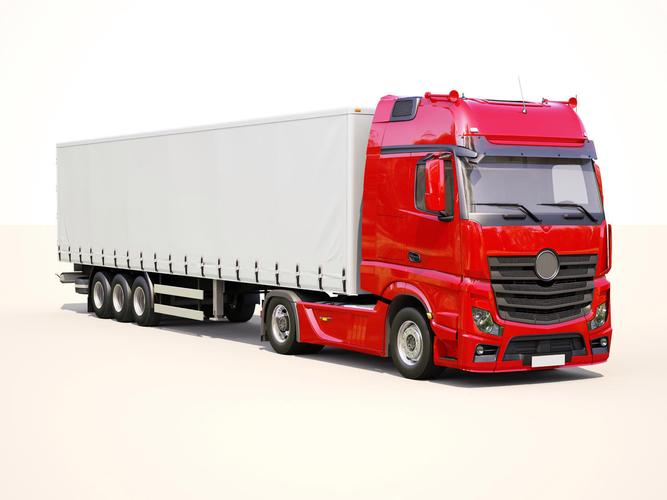卡车: (23, 80, 638, 408)
